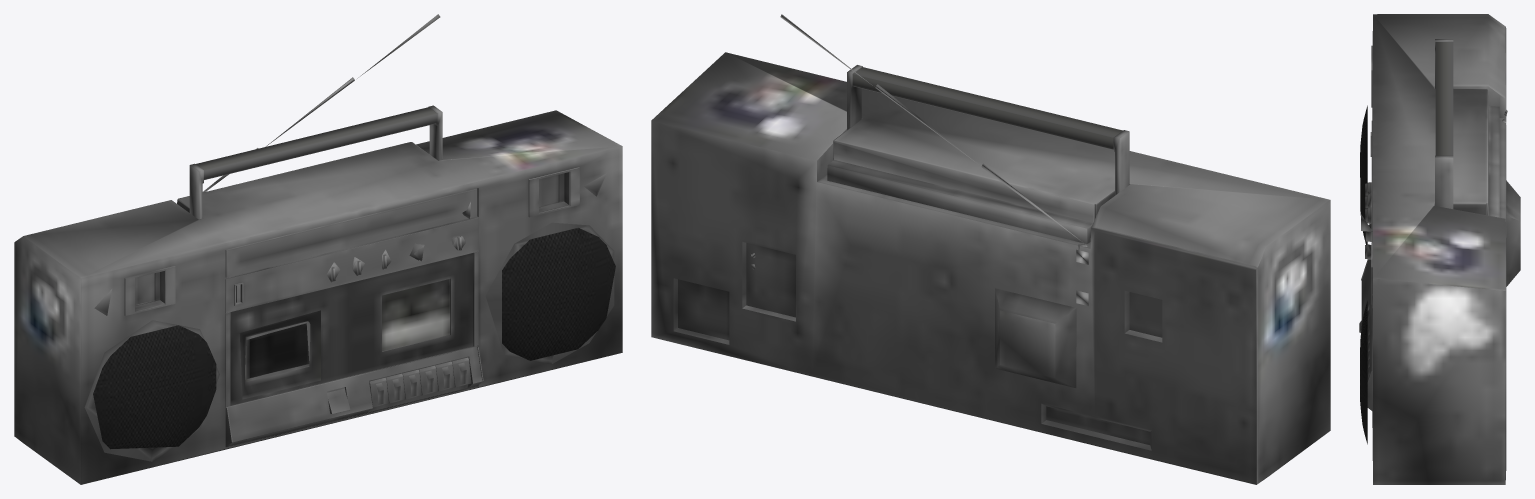
File: radio_lo.glb
The picture shows the model from 3 angles, left to right: view 1: azimuth 30°, elevation 25°; view 2: azimuth 150°, elevation 25°; view 3: azimuth 270°, elevation 25°; orthographic projection. The views are drawn at different scales.
Visible parts, largest first — view 1: boombox; view 2: boombox; view 3: boombox.
Boxes of the visible parts, box(x1,y1,x2,y2) form: boombox: box(14, 14, 622, 484); boombox: box(651, 14, 1330, 484); boombox: box(1359, 14, 1520, 484).
Bounding box in the file's own units: 0.7229 × 0.4064 × 0.1865.
2 materials, 2 textured.
